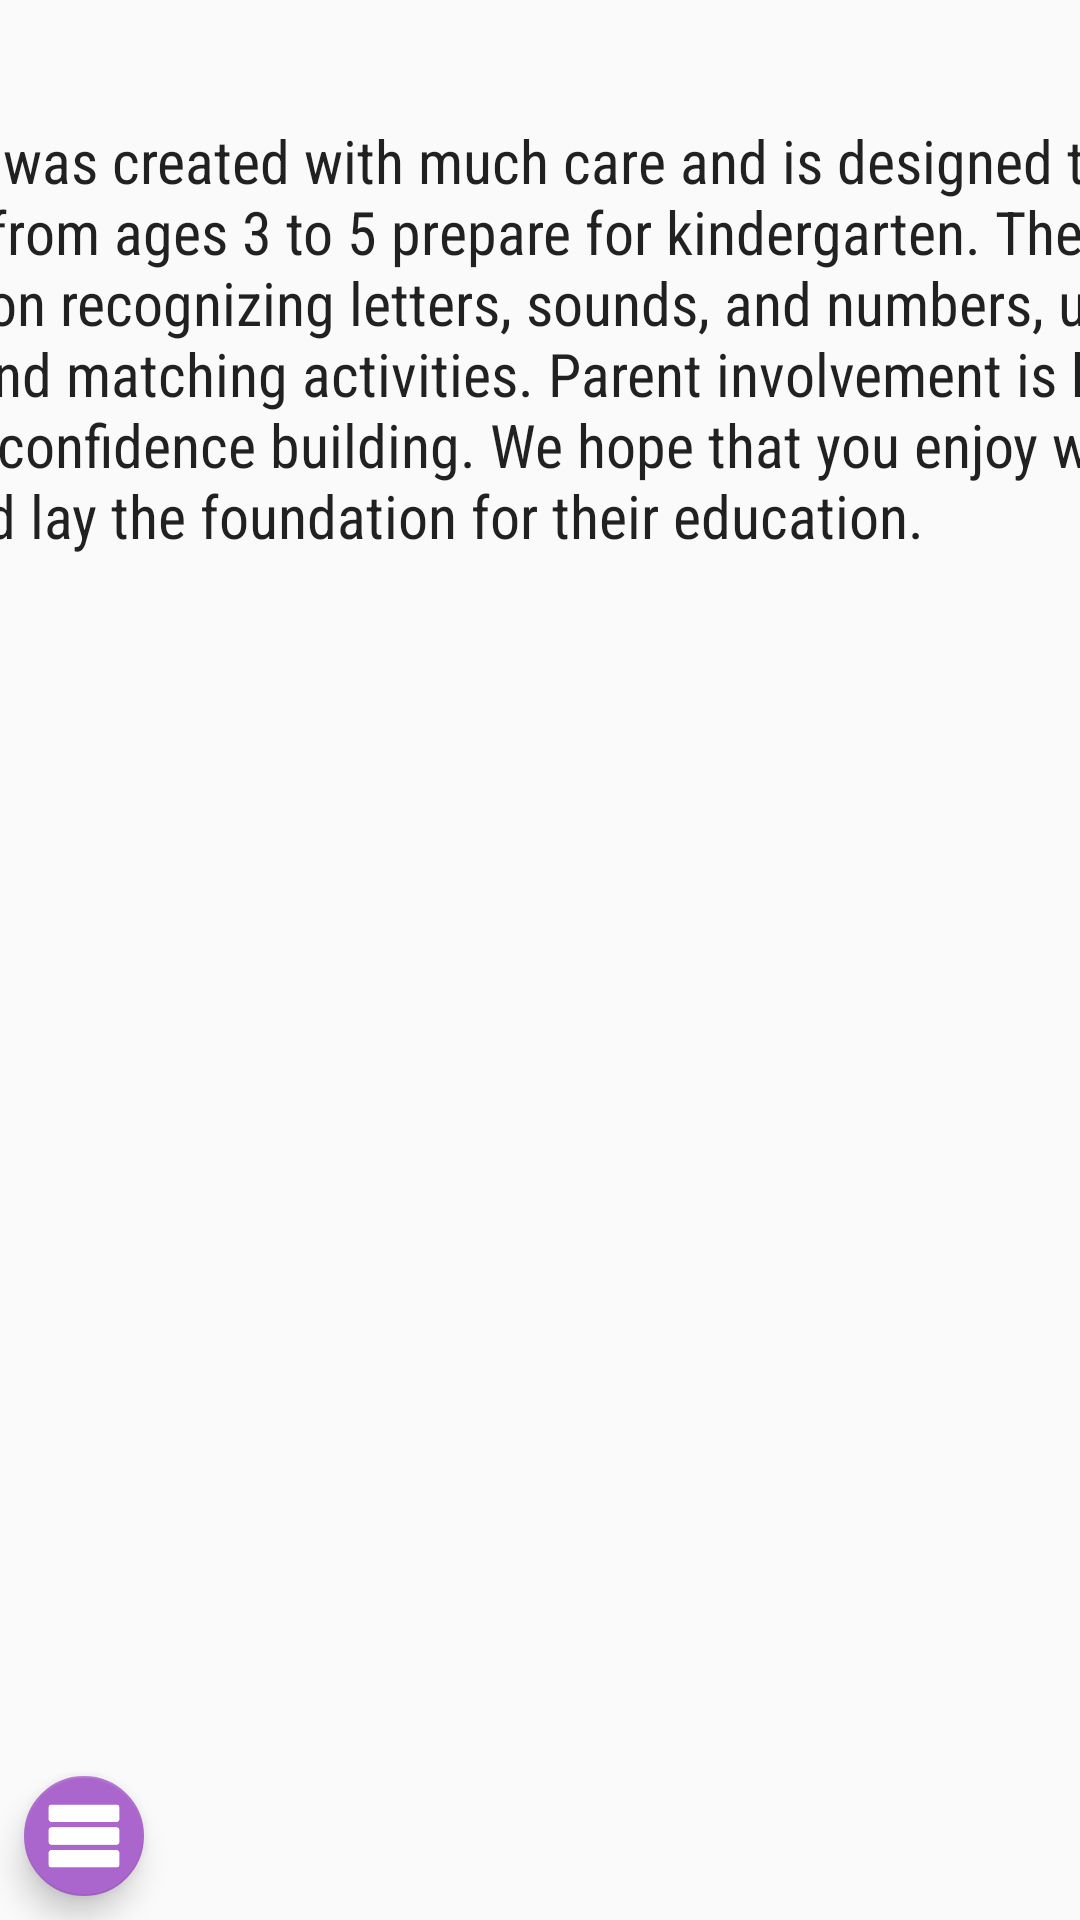

Named icons in this screenshot (1080w x 1920h) and their bounding boxes, (x1, y1, x2, y2):
menu: (24, 1776, 144, 1896)
